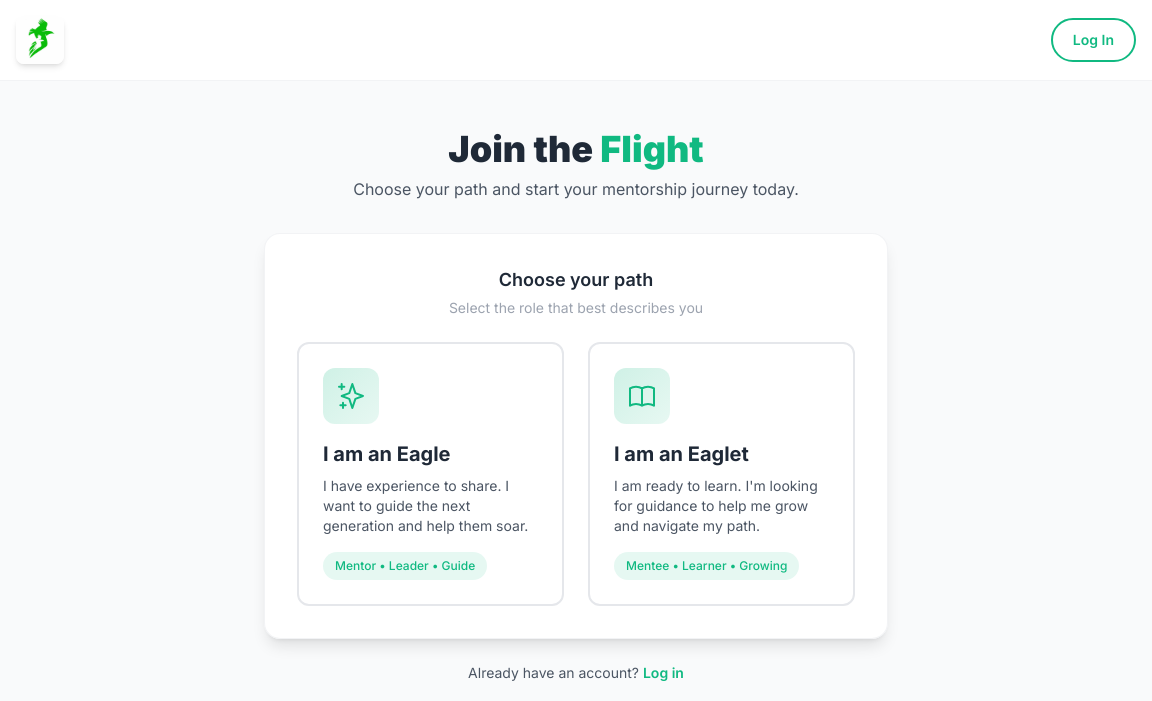
Test: RegisterPage › reveals the details form (with Google SSO) after selecting a role
What coordinates should you click on to do the following:
click the heading "I am an Eaglet"
I would click on:
 (681, 454)
Its box is [614,440,749,468].
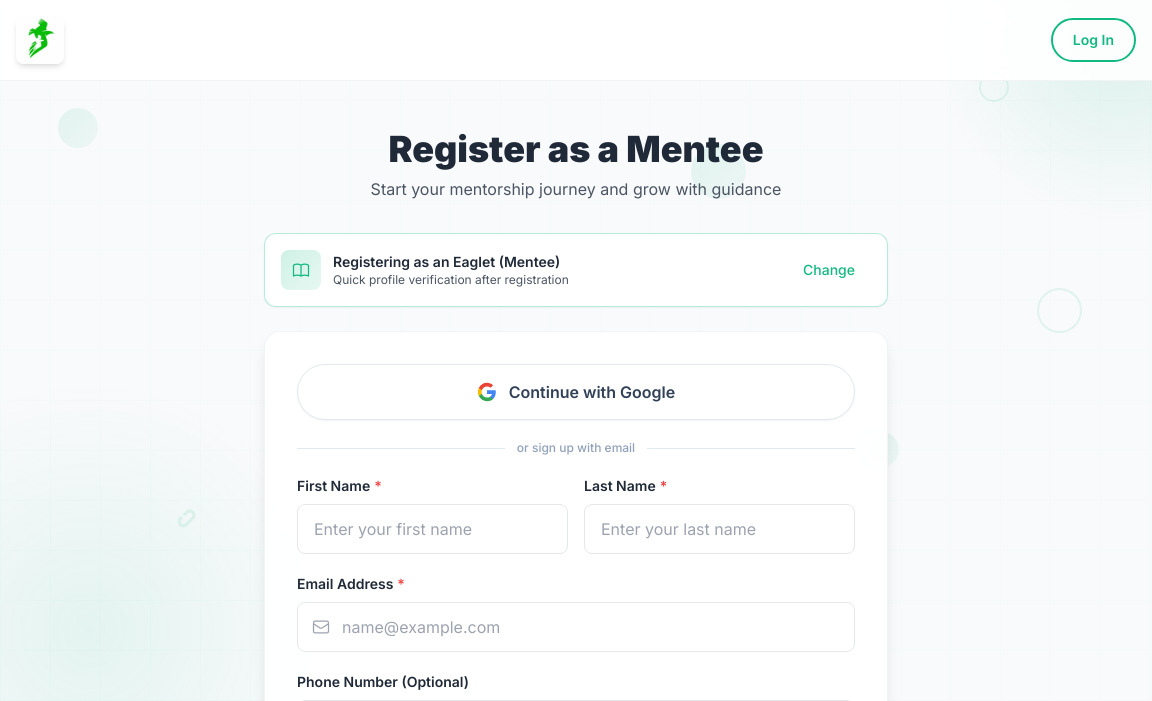
expect the text "Continue with Google" is shown: met, box [509,380,675,404]
expect the field labelled "Email Address*" is shown: met, box [297,602,855,652]
